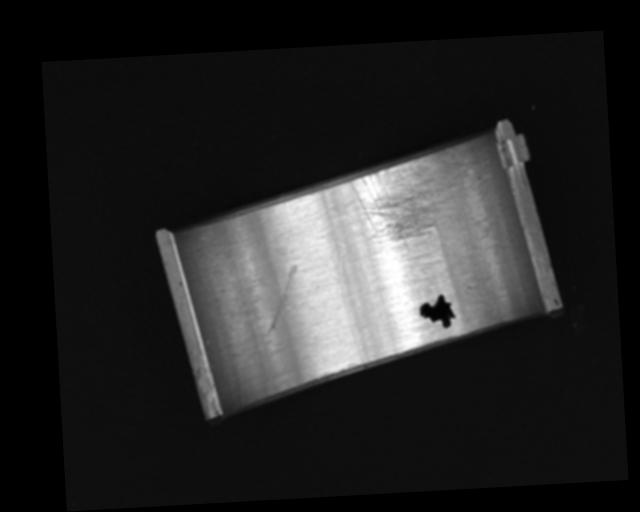blot: (418, 293, 457, 331)
nick: (334, 243, 364, 366), (262, 263, 301, 337)
scratch: (347, 144, 469, 254)
